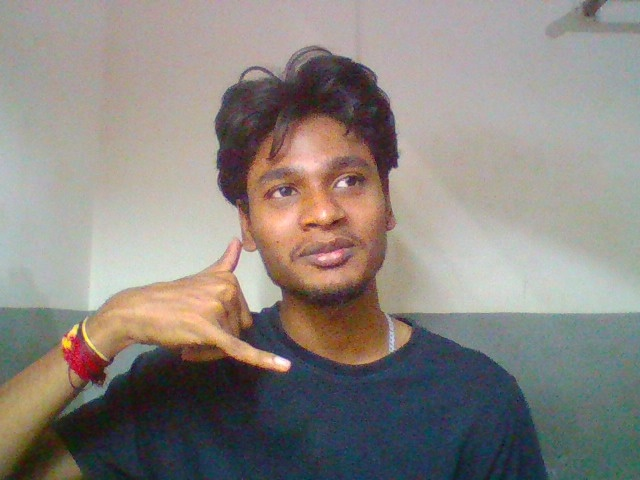Call: (97, 227, 308, 393)
